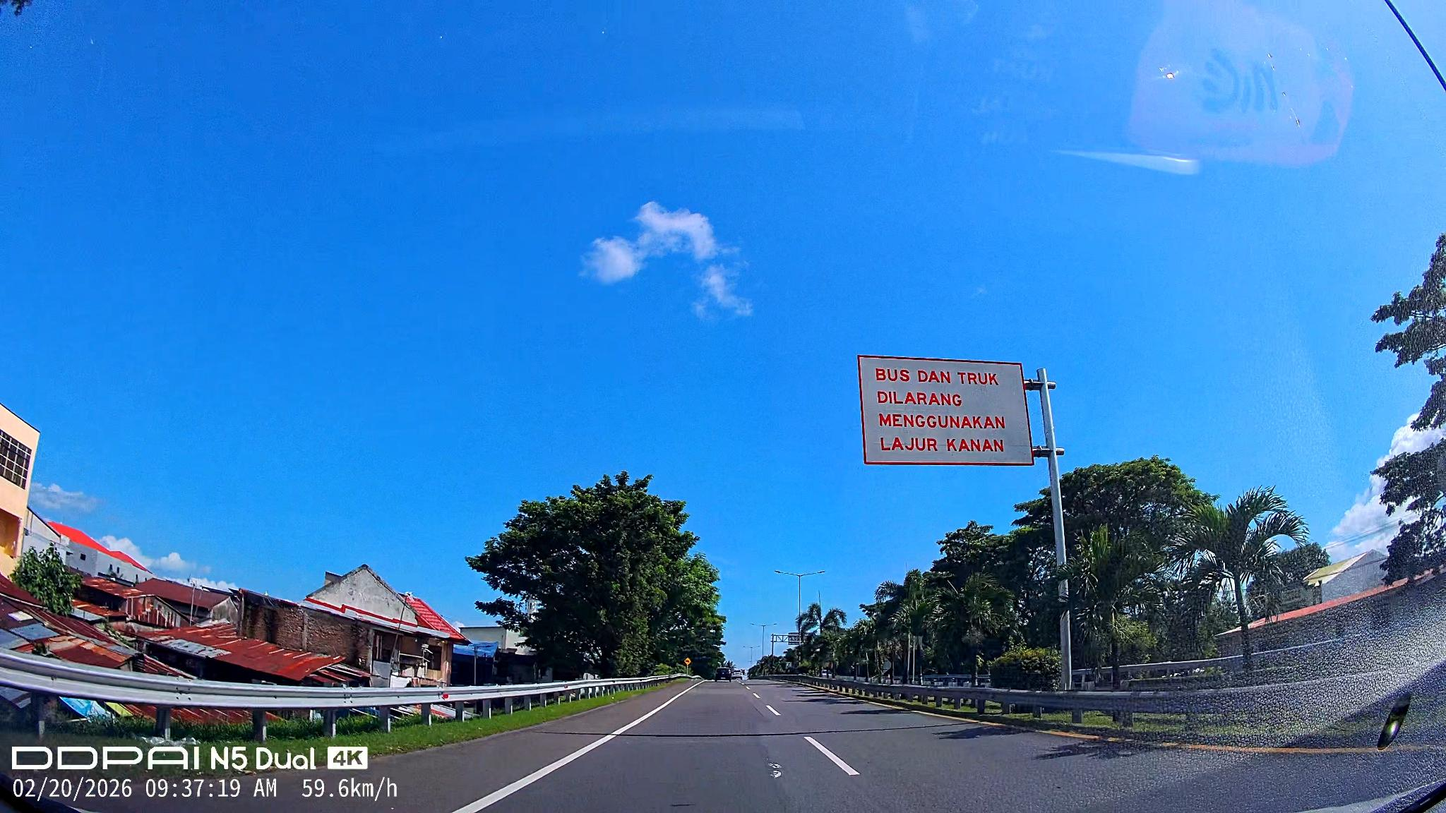rambu_teks: (857, 353, 1036, 467)
